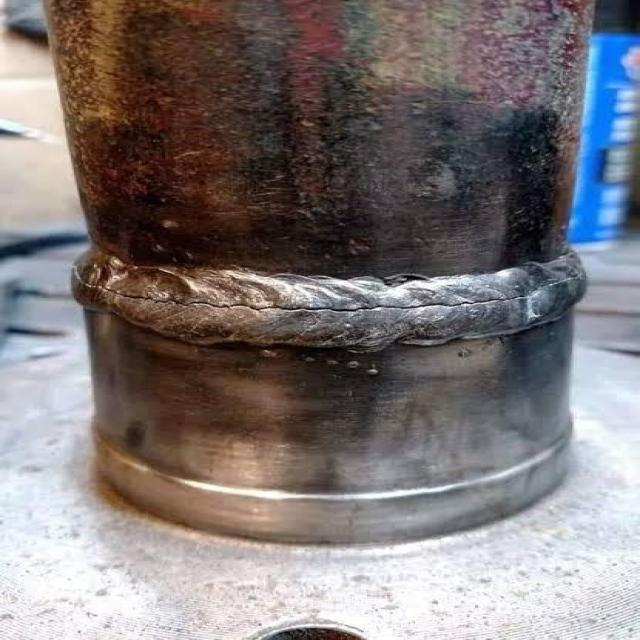Crack: (68, 263, 583, 315)
